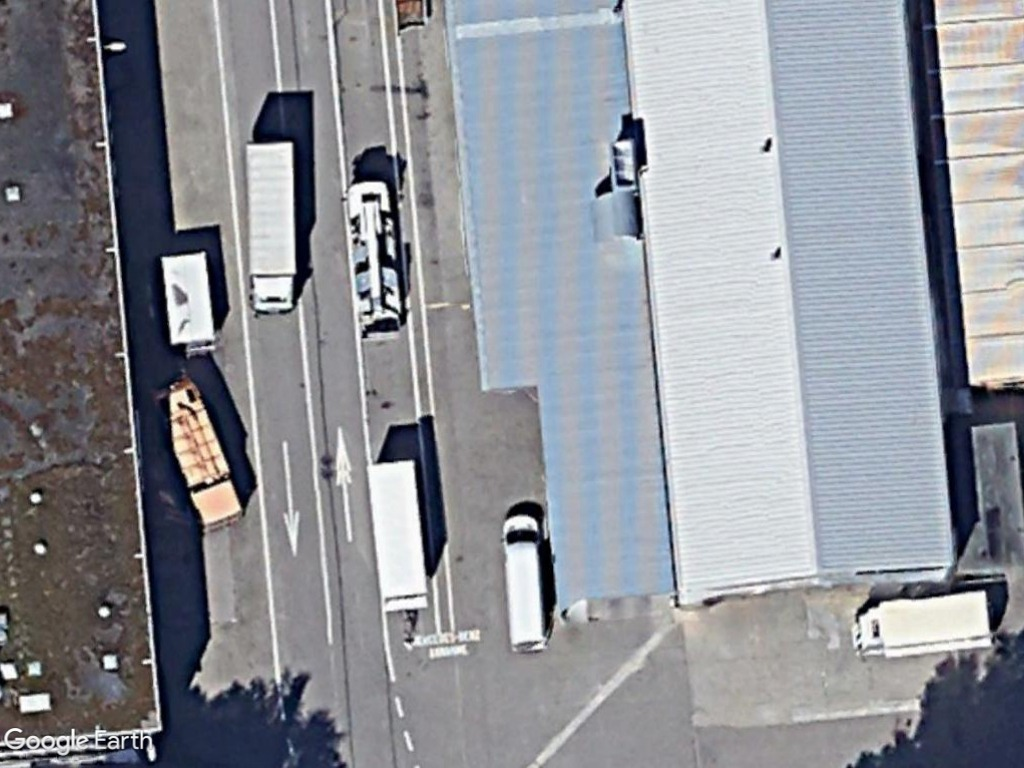others: (145, 374, 245, 534)
truck: (848, 587, 995, 663), (239, 133, 298, 321)
van: (495, 510, 551, 655)
